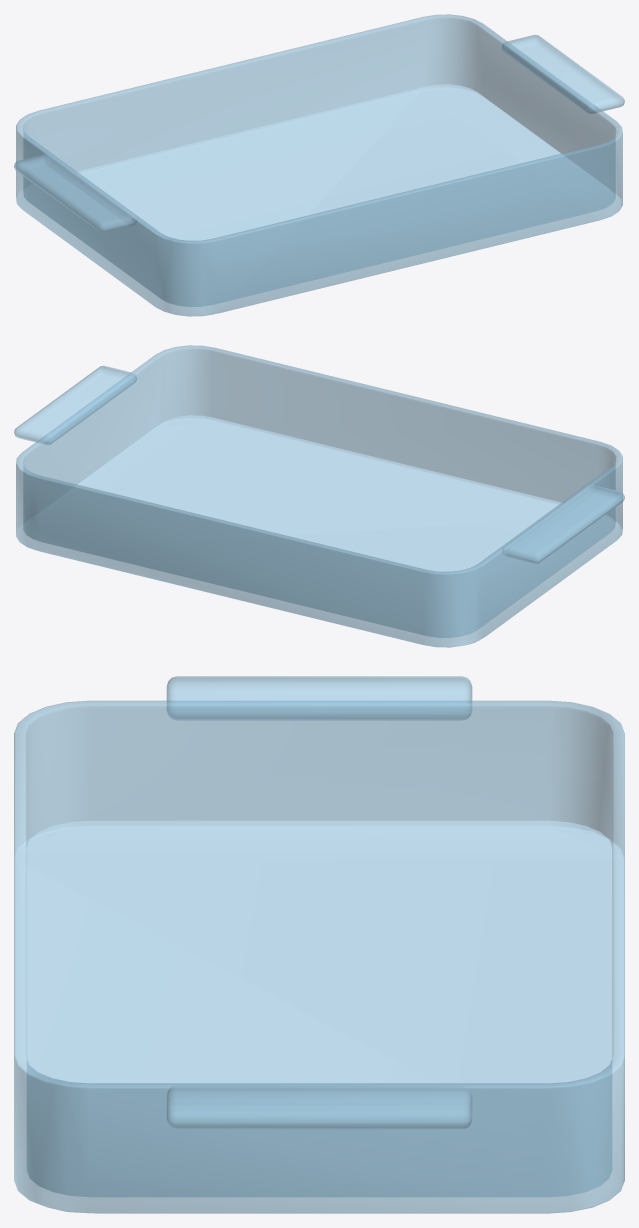
The model's file is assadeira_vidro.glb.
3 renders of one model, top to bottom at view 1: azimuth 30°, elevation 25°; view 2: azimuth 150°, elevation 25°; view 3: azimuth 270°, elevation 25°, orthographic. The views are drawn at different scales.
Parts seen in each view (by area): view 1: assadeira_vidro; view 2: assadeira_vidro; view 3: assadeira_vidro.
Boxes of the visible parts, x1,y1,x2,y2 form: assadeira_vidro: [14, 14, 624, 316]; assadeira_vidro: [14, 345, 624, 647]; assadeira_vidro: [14, 676, 624, 1213].
Bounding box in the file's own units: 0.41 × 0.055 × 0.24.
